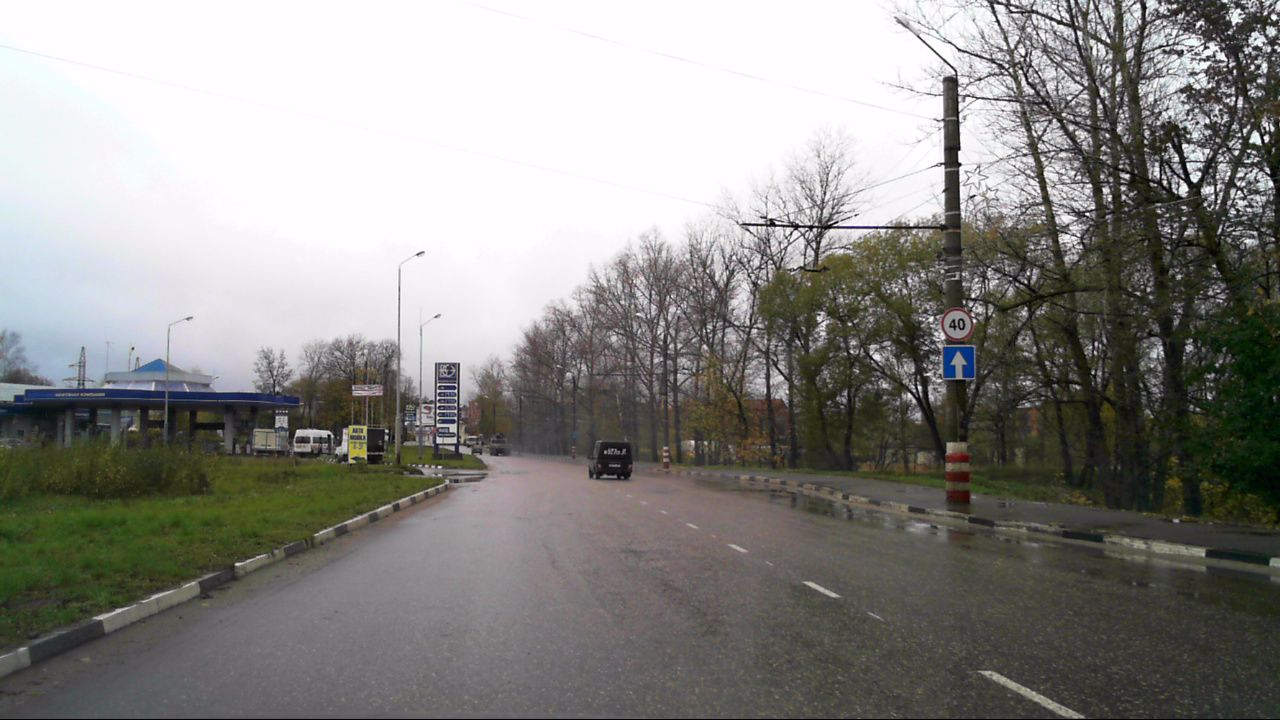speed_warning_40: (939, 307, 975, 342)
